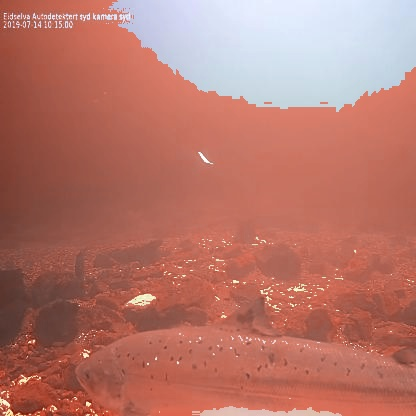salmon: (71, 290, 415, 415)
